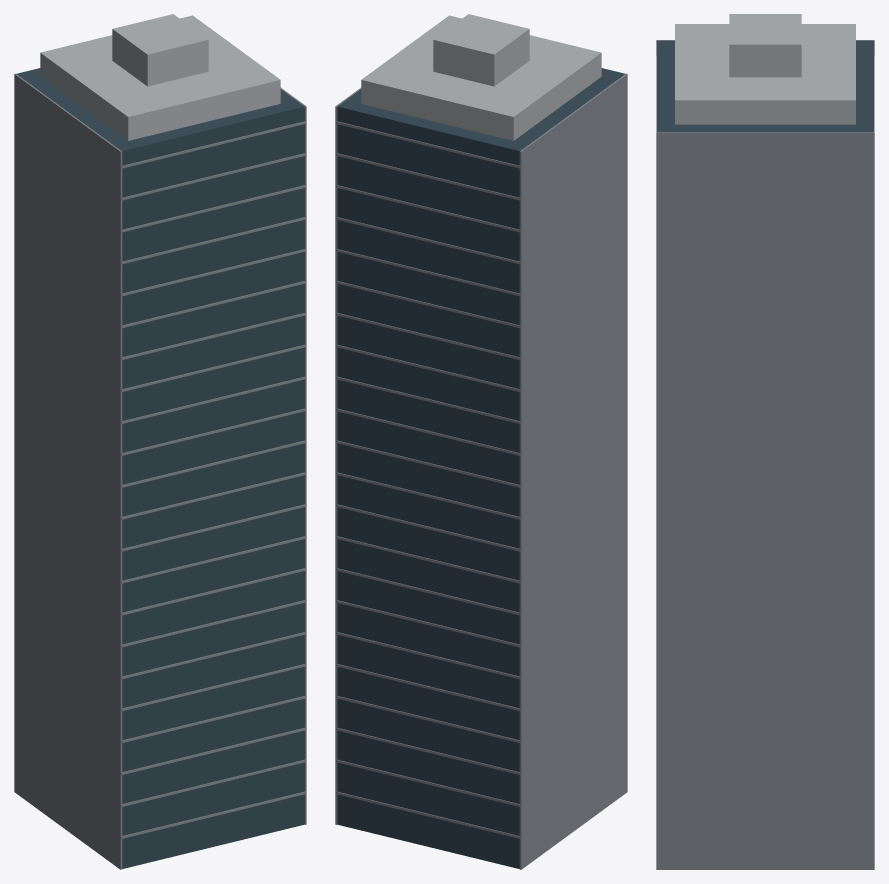
Rendered from g01-skyscraper-tower.glb.
3 views of the same model, side by side, from view 1: azimuth 30°, elevation 25°; view 2: azimuth 150°, elevation 25°; view 3: azimuth 270°, elevation 25° (orthographic). The views are drawn at different scales.
Parts seen in each view (by area): view 1: part0, part23, part25, part26, part24, part1, part11, part21, part22, part6, part7, part8 (+15 smaller); view 2: part0, part23, part25, part26, part24, part1, part11, part21, part22, part6, part7, part8 (+15 smaller); view 3: part24, part25, part0, part26.
Boxes of the visible parts, bbox=[...] form: part0: bbox=[16, 68, 304, 868]; part23: bbox=[14, 73, 122, 869]; part25: bbox=[40, 15, 280, 140]; part26: bbox=[112, 14, 208, 86]; part24: bbox=[280, 87, 306, 824]; part1: bbox=[121, 791, 305, 838]; part11: bbox=[121, 472, 305, 519]; part21: bbox=[121, 153, 305, 200]; part22: bbox=[121, 121, 305, 168]; part6: bbox=[121, 632, 305, 679]; part7: bbox=[121, 600, 305, 647]; part8: bbox=[121, 568, 305, 615]; part0: bbox=[337, 68, 625, 868]; part23: bbox=[519, 73, 627, 869]; part25: bbox=[361, 15, 601, 140]; part26: bbox=[433, 14, 529, 86]; part24: bbox=[335, 87, 361, 824]; part1: bbox=[336, 791, 520, 838]; part11: bbox=[336, 472, 520, 519]; part21: bbox=[336, 153, 520, 200]; part22: bbox=[336, 121, 520, 168]; part6: bbox=[336, 632, 520, 679]; part7: bbox=[336, 600, 520, 647]; part8: bbox=[336, 568, 520, 615]; part24: bbox=[656, 132, 874, 869]; part25: bbox=[675, 24, 855, 124]; part0: bbox=[657, 40, 873, 132]; part26: bbox=[729, 14, 801, 77].
Bounding box in the file's own units: 24398 × 97000 × 24200.
